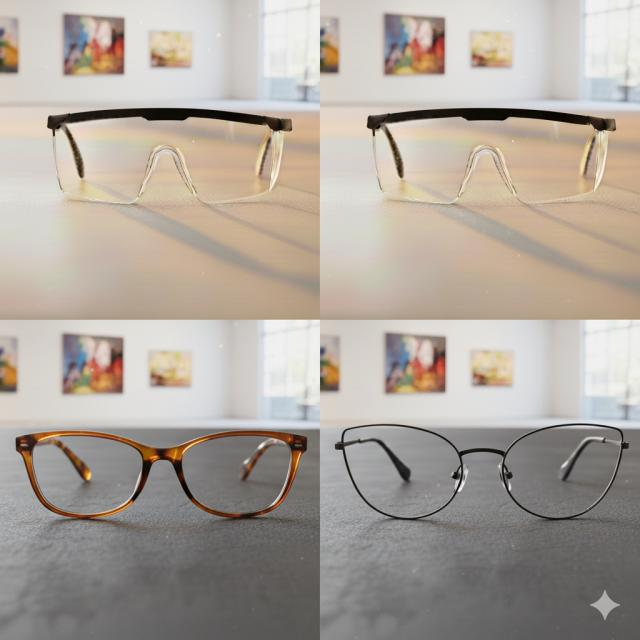oculos-epi: (355, 103, 630, 218), (34, 102, 299, 219)
sem_oculos: (335, 424, 628, 519), (17, 430, 306, 518)
